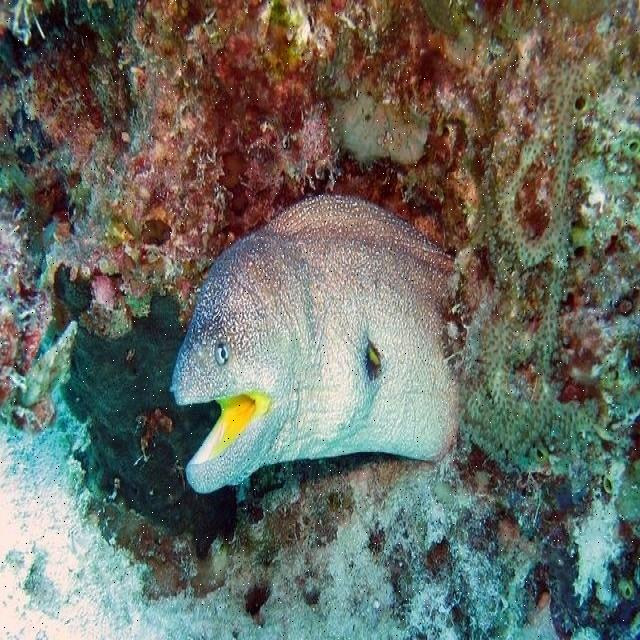fish: (172, 194, 461, 494)
